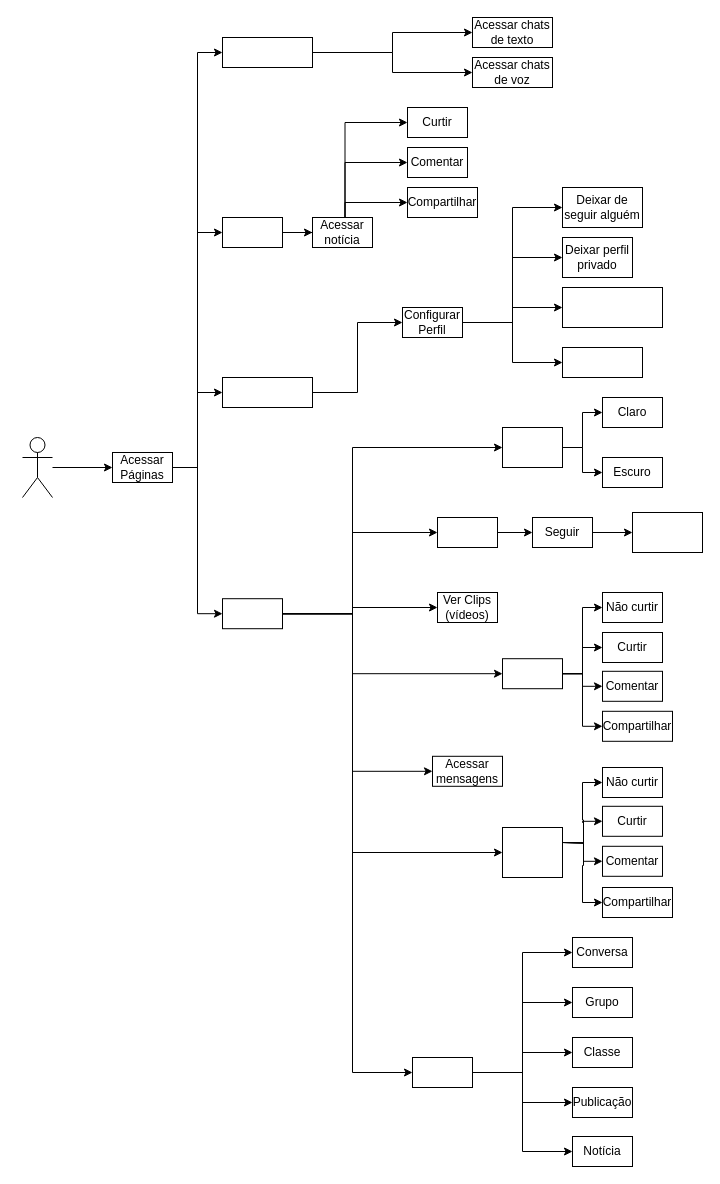
Some shapes in this 720 by 1184 pixel diagram are drawn without their labels. The shapes that lost their labels are listed below. From the top down, each one's box as (x1, y1, x2, y2) in pixels, then its label:
(222, 36, 312, 68): Classes
(222, 216, 282, 248): Notícias
(562, 286, 662, 328): Editar a descrição do perfil
(562, 346, 642, 378): Editar o nome do perfil
(222, 376, 312, 408): Configurações
(22, 436, 52, 498): Usuário
(502, 426, 562, 468): Mudar o tema de cores
(436, 516, 498, 548): Acessar um perfil
(632, 512, 702, 552): Ver publicações
(222, 598, 282, 629): Home
(502, 658, 562, 689): Acessar publicação
(502, 826, 562, 878): Acessar fóruns públicos
(412, 1056, 472, 1088): Criar algo
